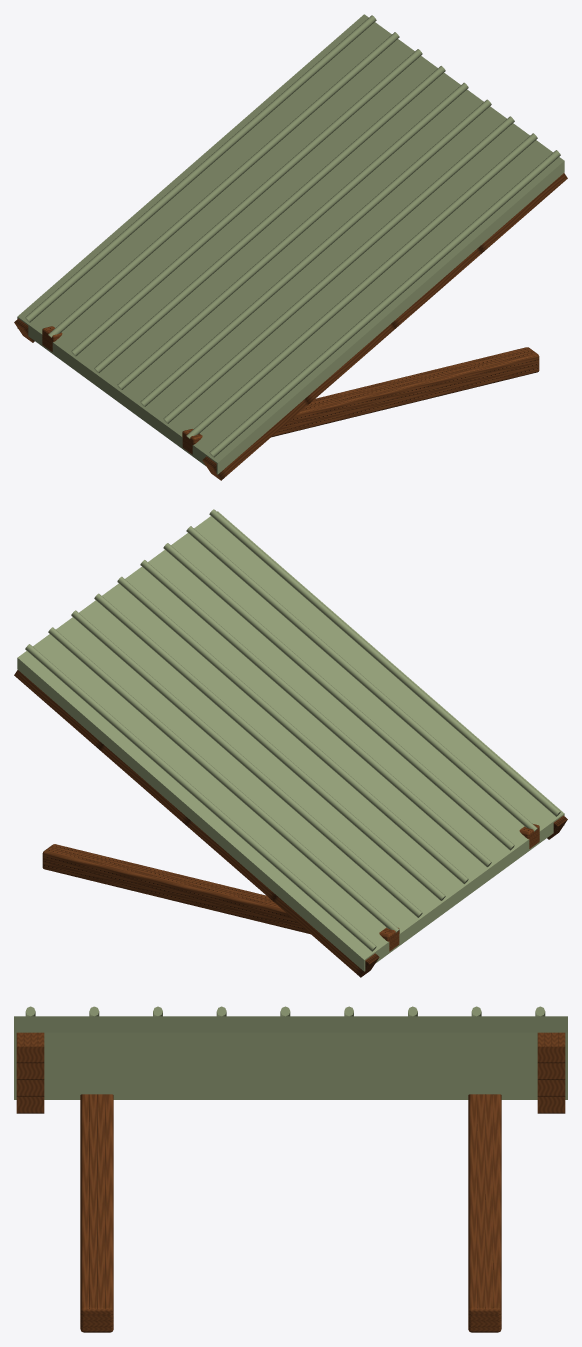
Rendered from prehistoric-survivor-settlement-thatch-lean-to-be205c49__23170.glb.
3 renders of one model, top to bottom at view 1: azimuth 30°, elevation 25°; view 2: azimuth 150°, elevation 25°; view 3: azimuth 270°, elevation 25°, orthographic. The views are drawn at different scales.
Visible parts, largest first — view 1: thatch-lean-to; view 2: thatch-lean-to; view 3: thatch-lean-to.
Boxes of the visible parts, x1=… form: thatch-lean-to: x1=14, y1=14, x2=567, y2=480; thatch-lean-to: x1=14, y1=509, x2=567, y2=977; thatch-lean-to: x1=14, y1=1006, x2=567, y2=1332.
Bounding box in the file's own units: 2.05 × 1.34 × 2.
Materials: 2 (1 with a texture image).
